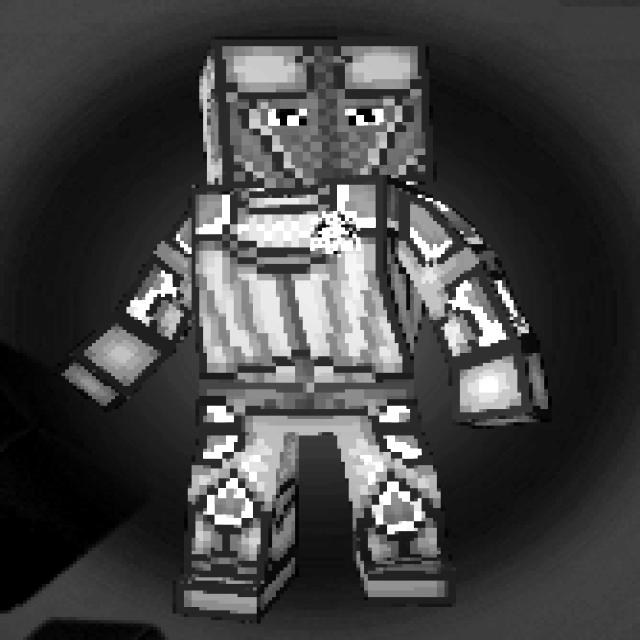Head: (193, 36, 435, 188)
Player: (57, 36, 554, 620)
